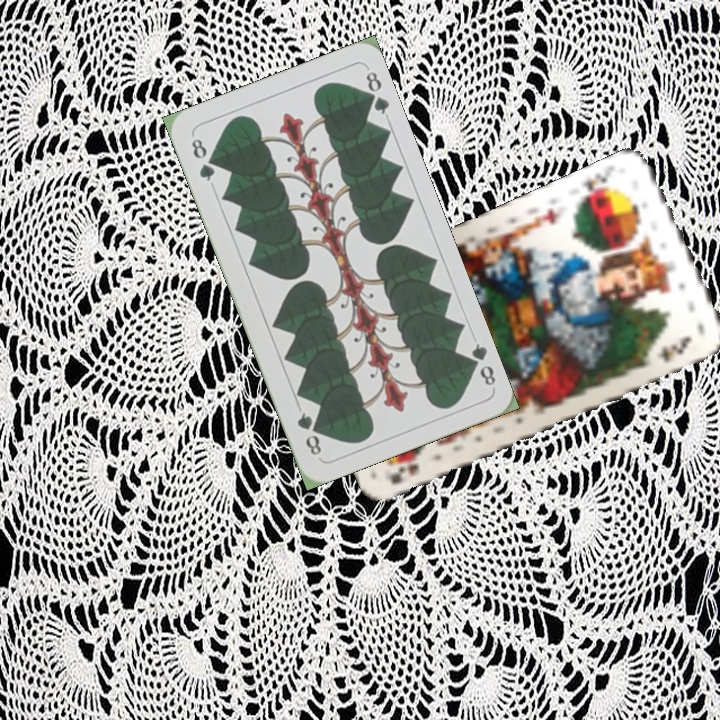G8: (461, 339, 499, 389), (187, 134, 218, 184)
SK: (576, 166, 615, 206), (384, 459, 423, 487)
